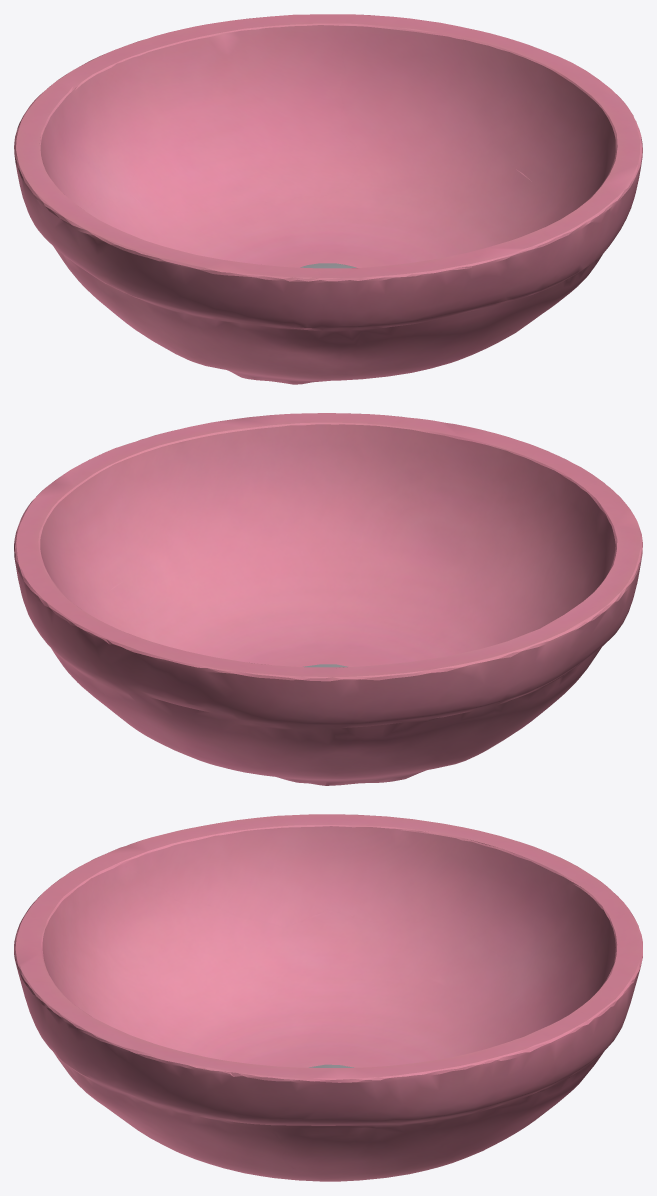
Rendered from plastic-basin.glb.
3 views of the same model, one above another, from view 1: azimuth 30°, elevation 25°; view 2: azimuth 150°, elevation 25°; view 3: azimuth 270°, elevation 25° (orthographic).
Visible parts, largest first — view 1: model; view 2: model; view 3: model.
Part boxes in pixels (x1=…): model: x1=14, y1=14, x2=642, y2=384; model: x1=14, y1=413, x2=642, y2=785; model: x1=14, y1=814, x2=642, y2=1181.
Bounding box in the file's own units: 1.9 × 0.5956 × 1.9.
1 material, 1 textured.
